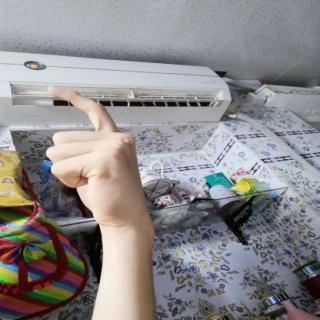RAA: (36, 80, 160, 229)
